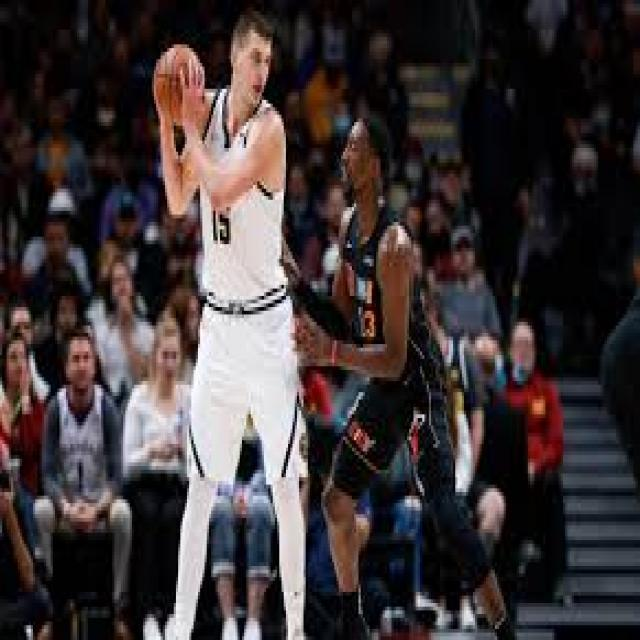rim: (154, 44, 198, 126)
